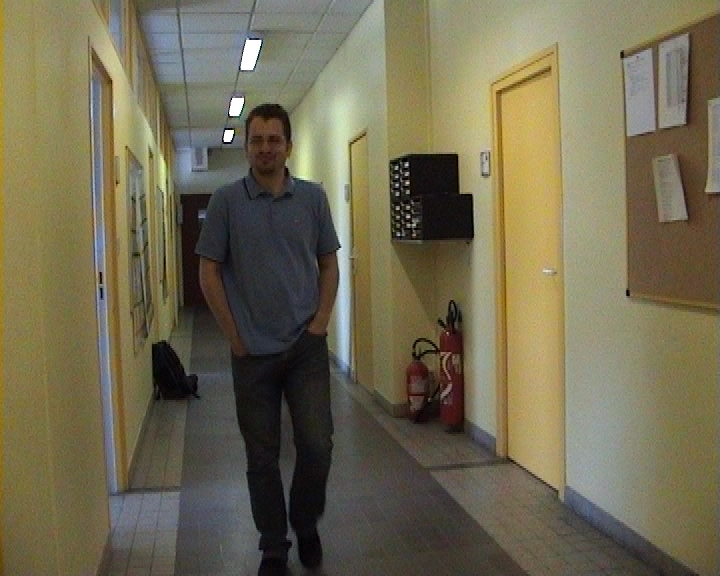leave bag unattended: (126, 316, 245, 425)
